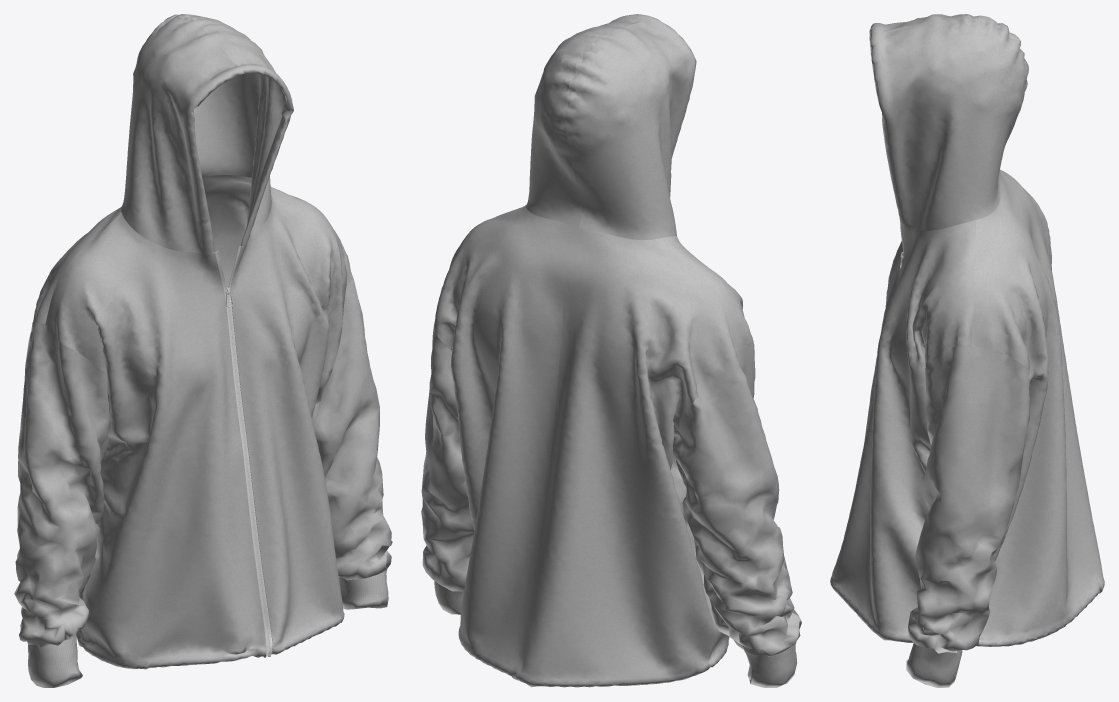
File: street-hoodie.glb
The picture shows the model from 3 angles, left to right: view 1: azimuth 30°, elevation 25°; view 2: azimuth 150°, elevation 25°; view 3: azimuth 270°, elevation 25°; orthographic projection. The views are drawn at different scales.
Parts seen in each view (by area): view 1: Cloth; view 2: Cloth; view 3: Cloth.
Part boxes in pixels (x1,y1,x2,y2): Cloth: [14, 14, 392, 687]; Cloth: [421, 14, 801, 687]; Cloth: [830, 14, 1104, 687].
Size of the model in its own units: 0.6308 by 1.01 by 0.4239.
Materials: 10 (10 with a texture image).
